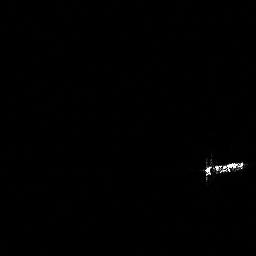ship: (202, 151, 247, 184)
